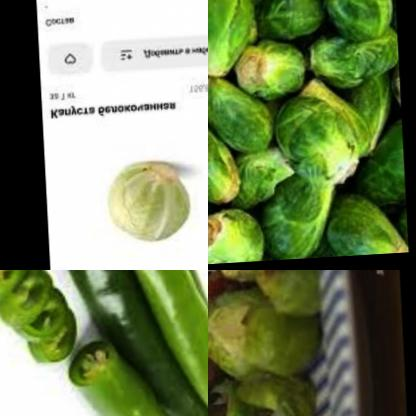brus capusta: (208, 0, 401, 270), (208, 304, 310, 398), (208, 270, 319, 320)
cabbage: (99, 155, 189, 261)
hot pepper: (19, 270, 208, 416), (108, 270, 208, 416), (58, 330, 185, 416), (0, 270, 91, 372)
